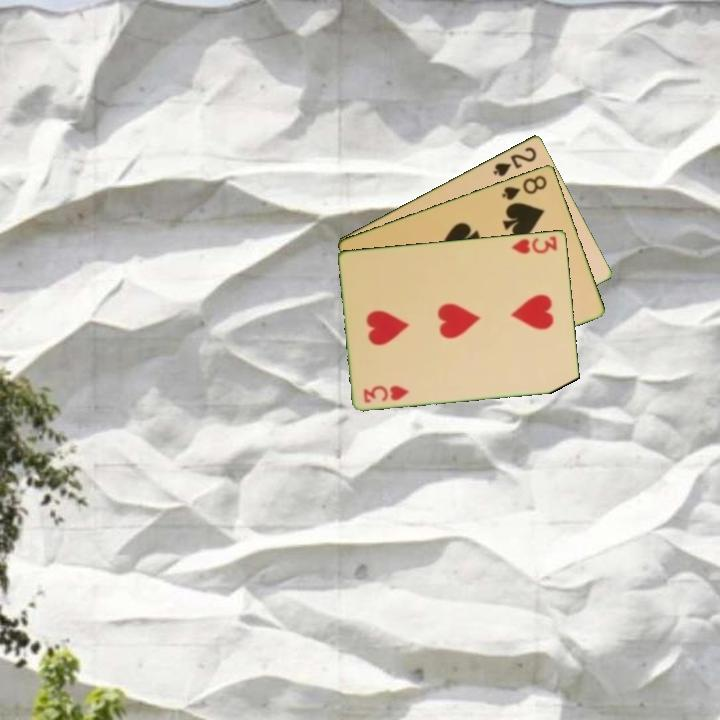2s: (489, 143, 540, 179)
3h: (508, 232, 560, 257), (360, 381, 412, 405)
8s: (498, 171, 550, 203)
